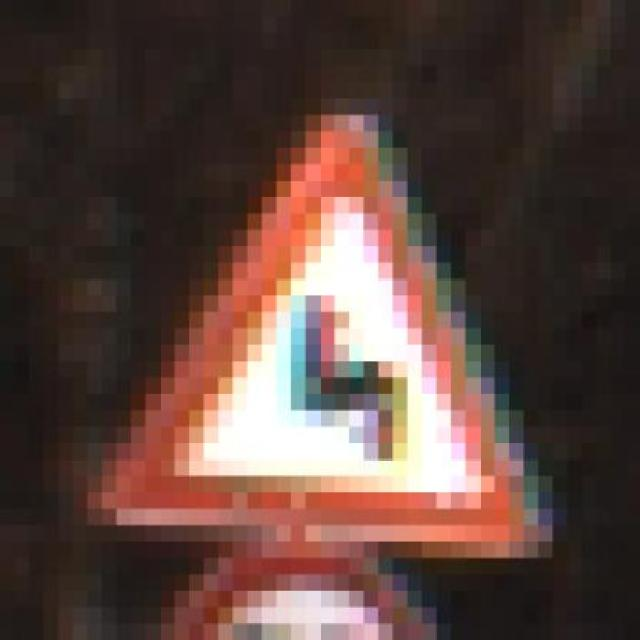Left Zig Zag Traffic: (73, 81, 553, 558)
